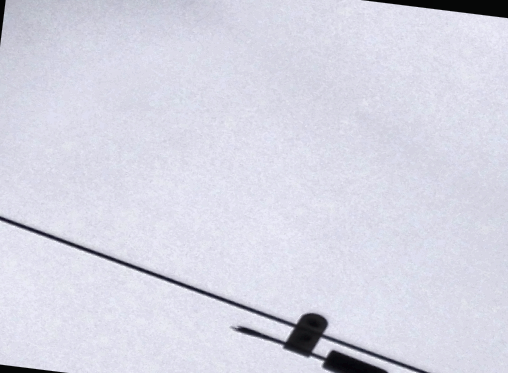damper_defect: (228, 306, 392, 373)
